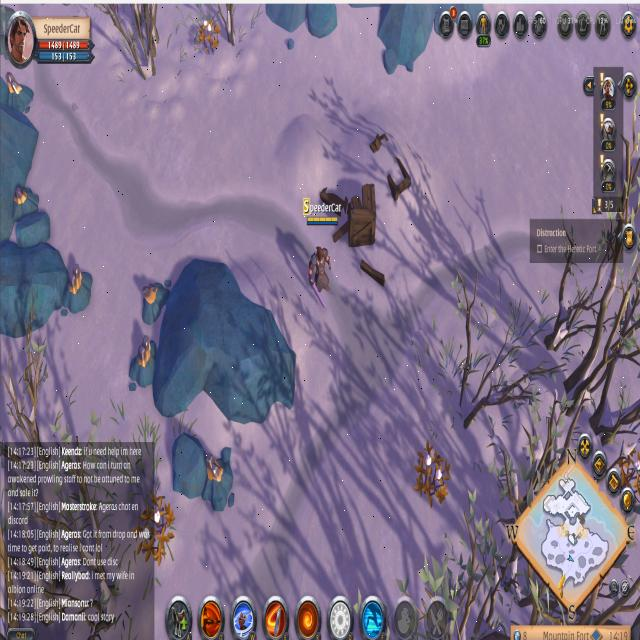copper: (200, 448, 235, 508), (126, 332, 159, 389), (62, 264, 92, 315), (6, 68, 34, 114), (140, 280, 169, 324), (13, 183, 38, 221)
cotton: (132, 493, 176, 564), (415, 442, 452, 511), (618, 441, 640, 501), (195, 18, 222, 60)
